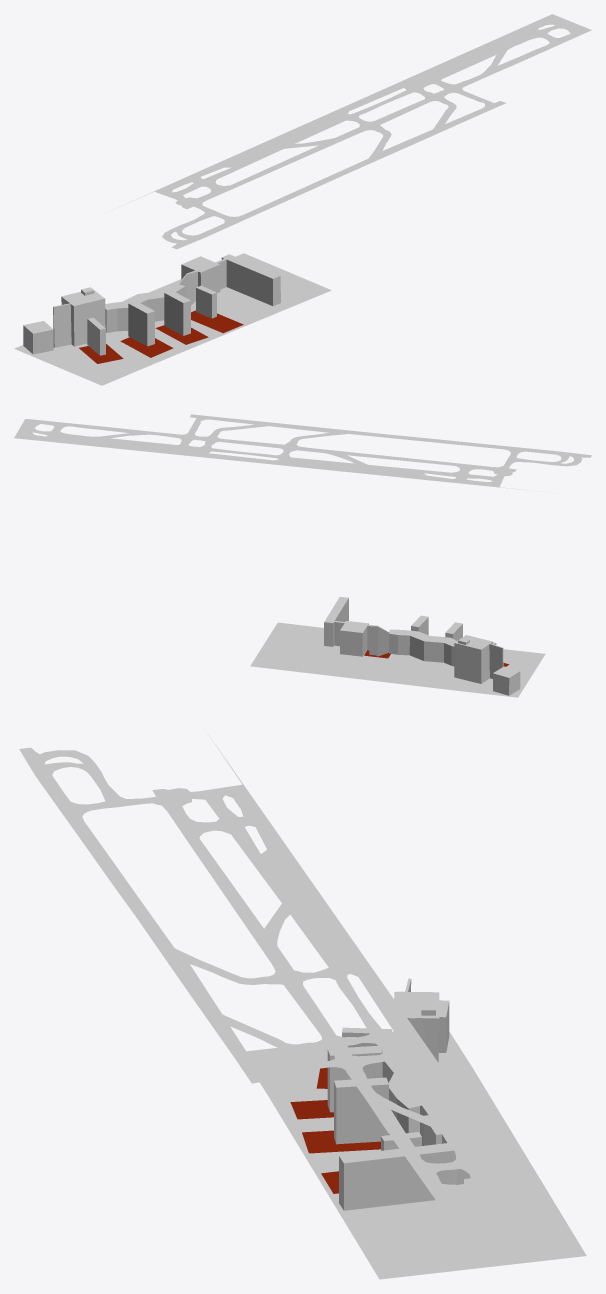
Rendered from aeroportoFina.dae.
3 renders of one model, top to bottom at view 1: azimuth 30°, elevation 25°; view 2: azimuth 150°, elevation 25°; view 3: azimuth 270°, elevation 25°, orthographic. The views are drawn at different scales.
Visible parts, largest first — view 1: Plane_006, Plane, Plane_001, Cube_001, Cube_002, Plane_005, Cube_003, Cube, Plane_003; view 2: Plane_006, Plane_001, Plane; view 3: Plane_006, Plane_001, Plane, Cube_002, Cube_001, Plane_004.
Boxes of the visible parts, x1=… form: Plane_006: x1=109, y1=14, x2=591, y2=249; Plane: x1=23, y1=254, x2=280, y2=354; Plane_001: x1=14, y1=253, x2=331, y2=385; Cube_001: x1=128, y1=301, x2=154, y2=346; Cube_002: x1=164, y1=290, x2=190, y2=335; Plane_005: x1=191, y1=310, x2=243, y2=333; Cube_003: x1=196, y1=285, x2=216, y2=318; Cube: x1=87, y1=317, x2=105, y2=355; Plane_003: x1=120, y1=337, x2=173, y2=357; Plane_006: x1=14, y1=414, x2=591, y2=493; Plane_001: x1=250, y1=622, x2=545, y2=697; Plane: x1=324, y1=597, x2=520, y2=695; Plane_006: x1=19, y1=736, x2=526, y2=1200; Plane_001: x1=246, y1=1032, x2=586, y2=1279; Plane: x1=339, y1=978, x2=470, y2=1210; Cube_002: x1=334, y1=1077, x2=388, y2=1144; Cube_001: x1=327, y1=1045, x2=382, y2=1112; Plane_004: x1=302, y1=1130, x2=389, y2=1153.
Size of the model in its own units: 7.79 by 3.86 by 2.34.
